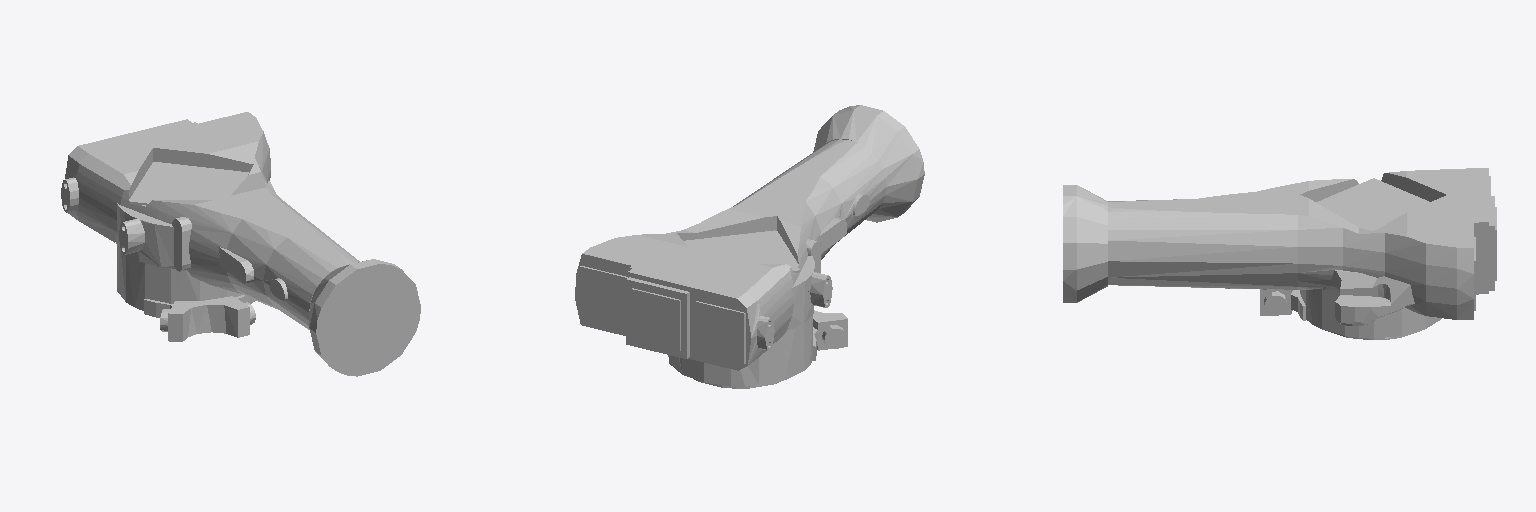
File: kuka_seg_3.obj
The picture shows the model from 3 angles: view 1: azimuth 30°, elevation 25°; view 2: azimuth 150°, elevation 25°; view 3: azimuth 270°, elevation 25°; orthographic projection.
Parts seen in each view (by area): view 1: Kuka_Seg_3; view 2: Kuka_Seg_3; view 3: Kuka_Seg_3.
Part boxes in pixels (bbox=[...]): Kuka_Seg_3: bbox=[61, 112, 420, 376]; Kuka_Seg_3: bbox=[575, 105, 924, 388]; Kuka_Seg_3: bbox=[1063, 168, 1496, 339].
Size of the model in its own units: 11.32 by 7.62 by 22.11.